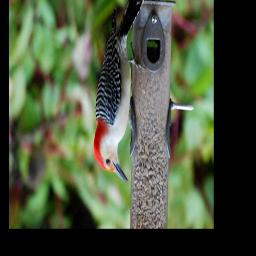Woodpecker: (93, 0, 147, 184)
